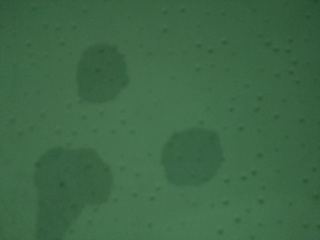Water_detected: (32, 154, 105, 223), (173, 130, 213, 178), (74, 40, 114, 88)
